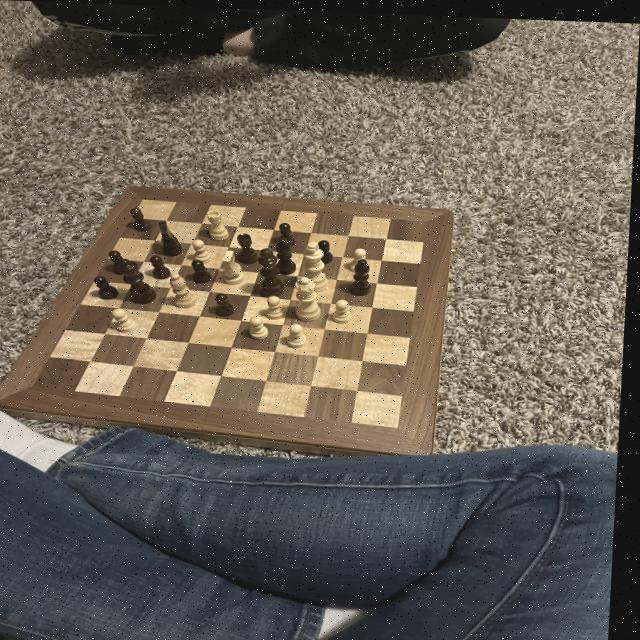bishop: (350, 255, 380, 295), (273, 236, 304, 273)
black-bishop: (257, 245, 291, 296)
black-king: (157, 216, 191, 257)
black-knight: (128, 206, 157, 233), (95, 274, 123, 301), (151, 254, 178, 280), (314, 236, 339, 263), (109, 248, 134, 273), (216, 290, 238, 318), (278, 219, 300, 245)
black-pawn: (119, 255, 162, 304)
black-queen: (236, 227, 263, 266)
black-rook: (169, 269, 202, 310)
white-bishop: (301, 238, 334, 292)
white-king: (222, 247, 251, 285)
white-knight: (113, 306, 145, 335), (263, 291, 292, 319), (333, 295, 359, 323), (191, 237, 218, 263), (286, 320, 311, 348), (249, 313, 274, 339), (349, 244, 371, 271)
white-pawn: (295, 273, 329, 323)
white-queen: (206, 208, 237, 242)
